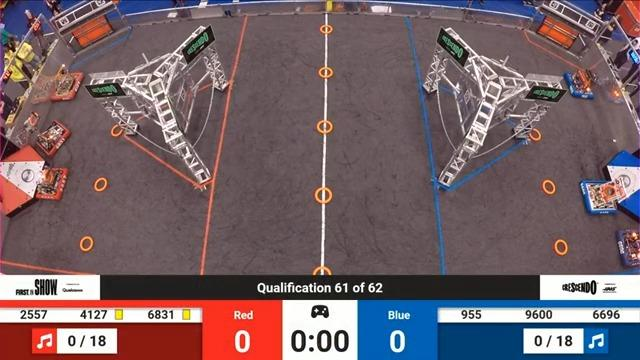robot: (581, 164, 629, 221), (22, 113, 69, 154), (26, 166, 73, 206), (560, 59, 597, 106), (46, 66, 85, 107), (614, 224, 640, 269)
